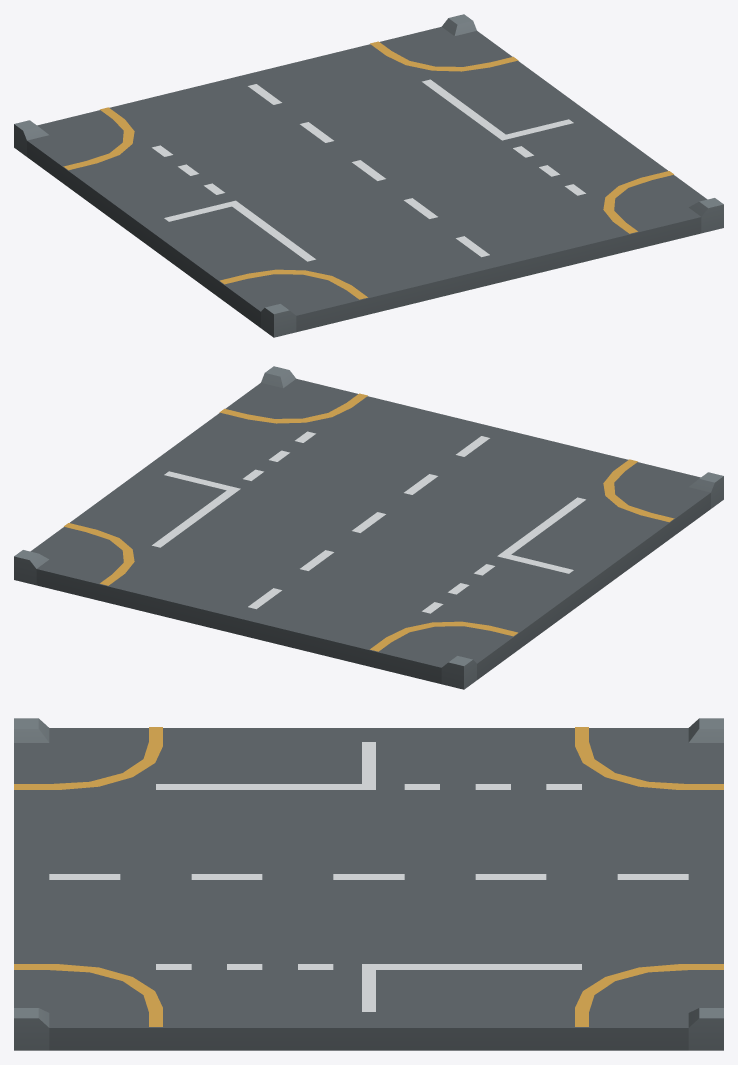
The model's file is road_junction.glb.
The picture shows the model from 3 angles, top to bottom: view 1: azimuth 30°, elevation 25°; view 2: azimuth 150°, elevation 25°; view 3: azimuth 270°, elevation 25°; orthographic projection. The views are drawn at different scales.
Parts seen in each view (by area): view 1: road_junction; view 2: road_junction; view 3: road_junction.
Boxes of the visible parts, <box> form: road_junction: <box>14,14,723,337</box>; road_junction: <box>14,366,723,689</box>; road_junction: <box>14,718,723,1050</box>.
Size of the model in its own units: 2 by 0.1 by 2.
Materials: 1 (1 with a texture image).
